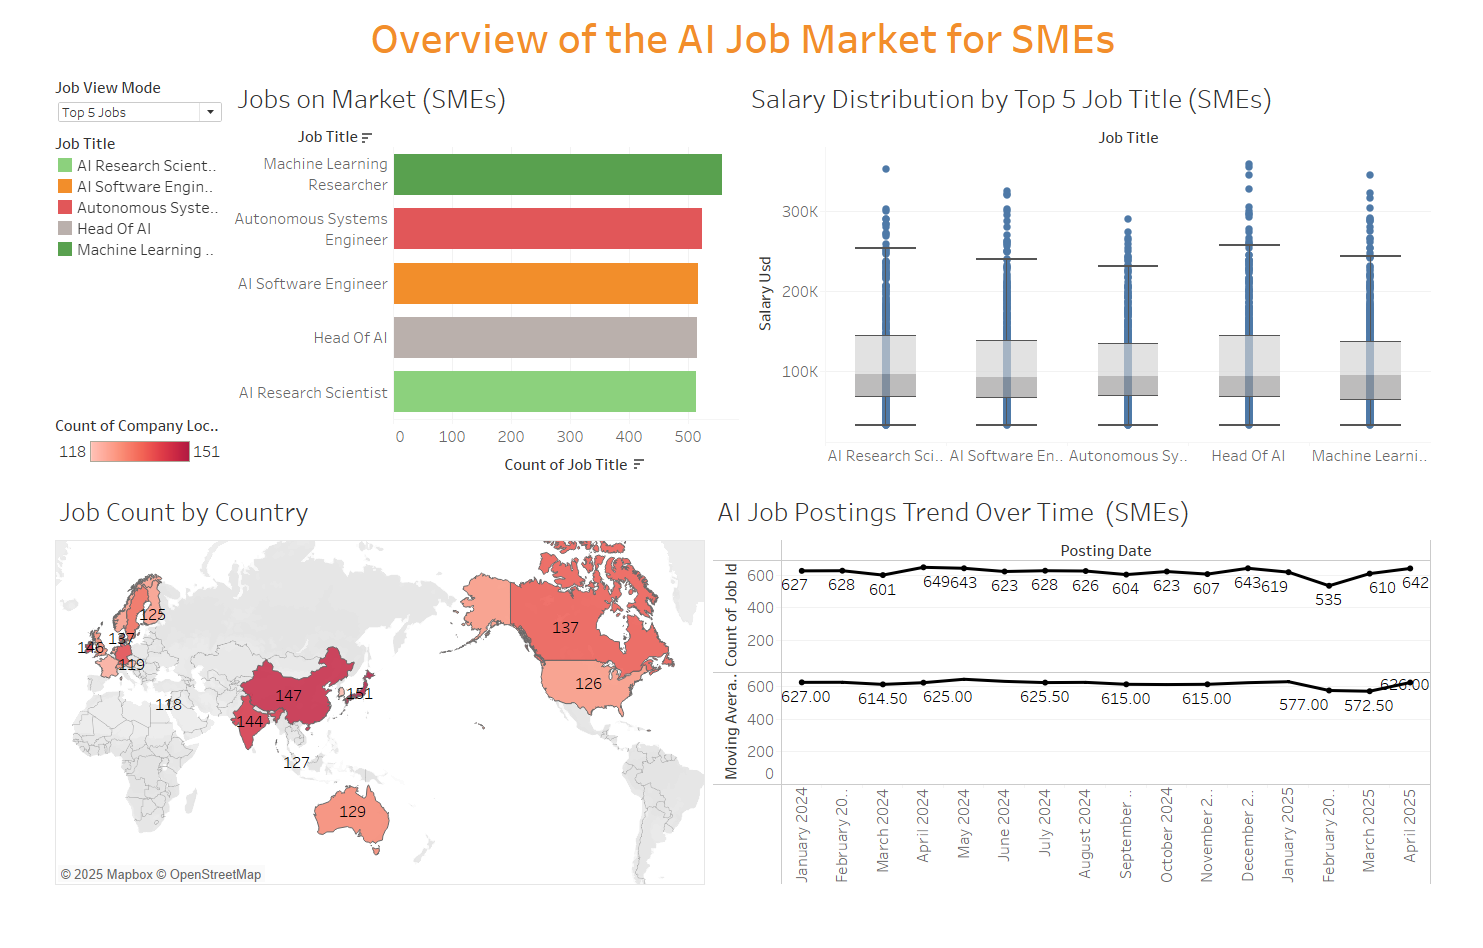

What the dashboard file says about the page in this screenshot:
{"tool":"tableau","page":{"name":"Dashboard 1","canvas":[1400,900],"ordinal":0},"visuals":[{"type":"text","box":[8,8,1384,63]},{"type":"parameter","param":"[Parameters].[Parameter 1]","box":[8,76,178,56]},{"type":"worksheet","title":"Jobs on Market (SMEs)","mark":"Automatic","rows":["job_title"],"cols":["job_title"],"box":[186,76,514,413]},{"type":"worksheet","title":"Salary Distribution by Top 5 Job Title (SMEs)","mark":"Circle","rows":["salary_usd"],"cols":["job_title"],"box":[700,76,692,413]},{"type":"legend","title":"Jobs on Market (SMEs)","param":"[federated.1hjc3tu0h6lypg139vgvv0k21v48].[none:job_title:nk]","box":[8,132,178,135]},{"type":"legend","title":"Job Count by Country","param":"[federated.1hjc3tu0h6lypg139vgvv0k21v48].[cnt:company_location:qk]","box":[8,414,178,75]},{"type":"worksheet","title":"Job Count by Country","mark":"Automatic","box":[8,489,658,403]},{"type":"worksheet","title":"AI Job Postings Trend Over Time (SMEs)","mark":"Line","rows":["job_id"],"cols":["posting_date"],"box":[666,489,726,403]}]}

Visuals, with their boxes in screenshot pixels (x1, y1, x2, y2), scaled from the page's 1400x900 canvas onto the 1483x948 screenshot:
text: {"x1": 8, "y1": 8, "x2": 1475, "y2": 75}
parameter: {"x1": 8, "y1": 80, "x2": 197, "y2": 139}
"Jobs on Market (SMEs)" worksheet: {"x1": 197, "y1": 80, "x2": 742, "y2": 515}
"Salary Distribution by Top 5 Job Title (SMEs)" worksheet (Circle marks): {"x1": 742, "y1": 80, "x2": 1475, "y2": 515}
"Jobs on Market (SMEs)" legend: {"x1": 8, "y1": 139, "x2": 197, "y2": 281}
"Job Count by Country" legend: {"x1": 8, "y1": 436, "x2": 197, "y2": 515}
"Job Count by Country" worksheet: {"x1": 8, "y1": 515, "x2": 705, "y2": 940}
"AI Job Postings Trend Over Time (SMEs)" worksheet (Line marks): {"x1": 705, "y1": 515, "x2": 1475, "y2": 940}
